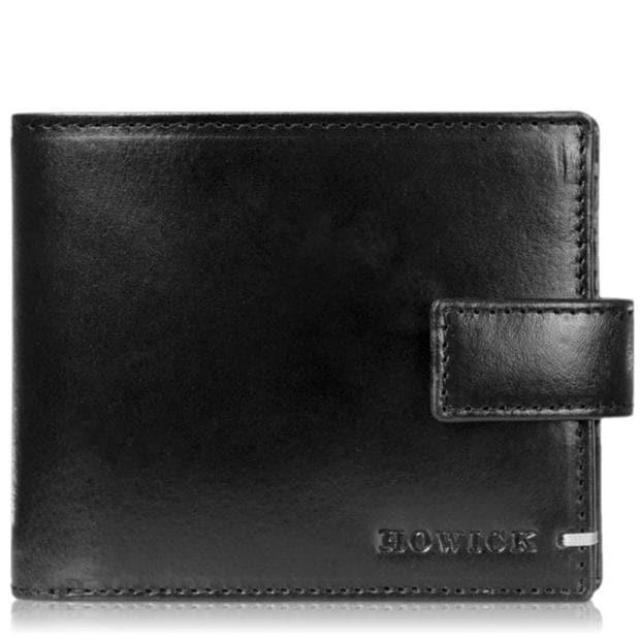wallet: (7, 107, 603, 608)
